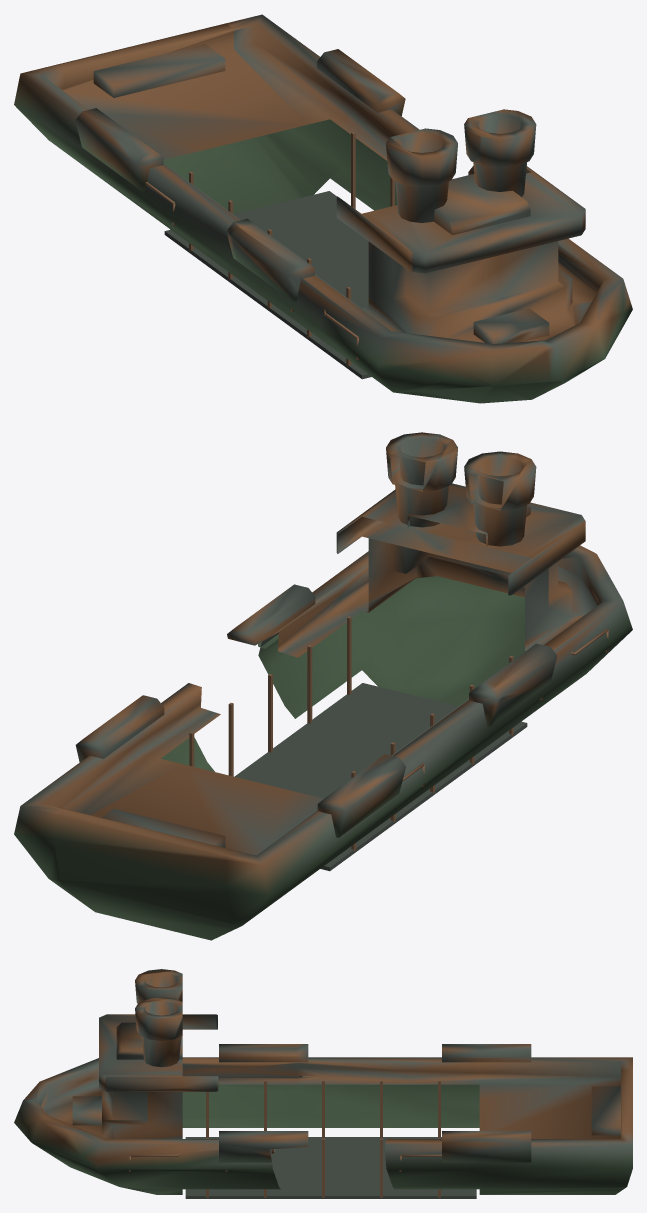
Rendered from wreck-hull.glb.
3 renders of one model, top to bottom at view 1: azimuth 30°, elevation 25°; view 2: azimuth 150°, elevation 25°; view 3: azimuth 270°, elevation 25°, orthographic. The views are drawn at different scales.
Parts seen in each view (by area): view 1: wreck-hull, wreck-hull / hold floor; view 2: wreck-hull, wreck-hull / hold floor; view 3: wreck-hull, wreck-hull / hold floor.
Part boxes in pixels (x1=…): wreck-hull: x1=14, y1=14, x2=632, y2=403; wreck-hull / hold floor: x1=164, y1=191, x2=371, y2=379; wreck-hull: x1=14, y1=432, x2=632, y2=940; wreck-hull / hold floor: x1=234, y1=683, x2=527, y2=871; wreck-hull: x1=14, y1=969, x2=632, y2=1194; wreck-hull / hold floor: x1=185, y1=1137, x2=476, y2=1198.
Bounding box in the file's own units: 11.88 × 10.25 × 32.
